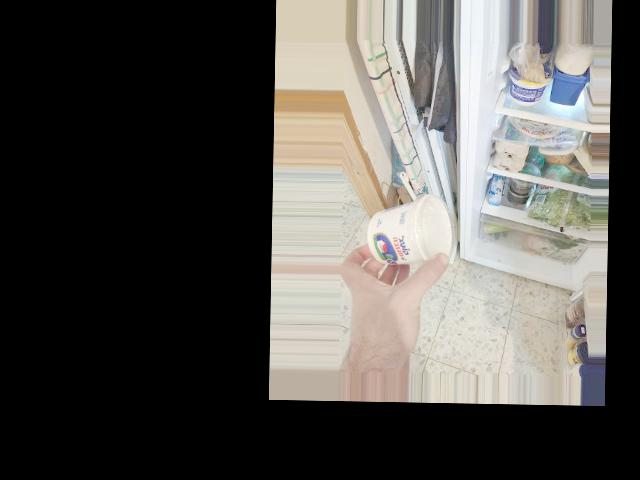cotage: (363, 195, 450, 273)
